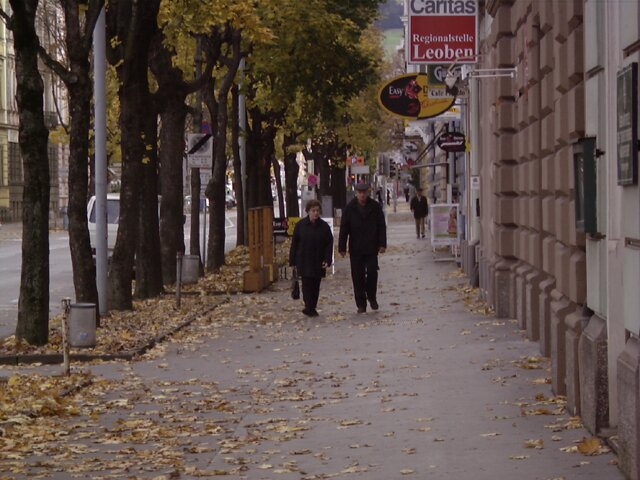person: (339, 173, 400, 317), (286, 196, 330, 324)
